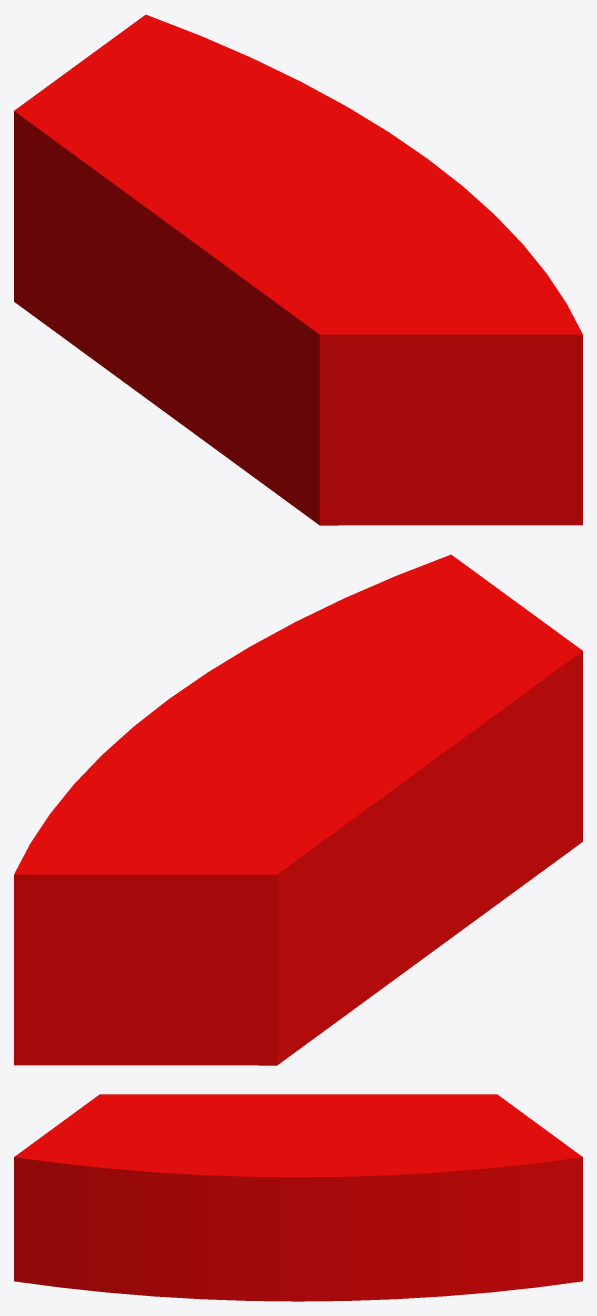
The model's file is vermelho.obj.
3 views of the same model, one above another, from view 1: azimuth 30°, elevation 25°; view 2: azimuth 150°, elevation 25°; view 3: azimuth 270°, elevation 25° (orthographic). The views are drawn at different scales.
Parts seen in each view (by area): view 1: Mesh1 Group2 Group1 Model, Mesh2 Group1 Model; view 2: Mesh1 Group2 Group1 Model, Mesh2 Group1 Model; view 3: Mesh1 Group2 Group1 Model.
Part boxes in pixels (bbox=[...]): Mesh1 Group2 Group1 Model: bbox=[14, 14, 582, 525]; Mesh2 Group1 Model: bbox=[14, 111, 319, 524]; Mesh1 Group2 Group1 Model: bbox=[14, 554, 582, 1065]; Mesh2 Group1 Model: bbox=[277, 651, 582, 1064]; Mesh1 Group2 Group1 Model: bbox=[14, 1094, 582, 1301].
Bounding box in the file's own units: 29.34 × 20.5 × 85.1.
